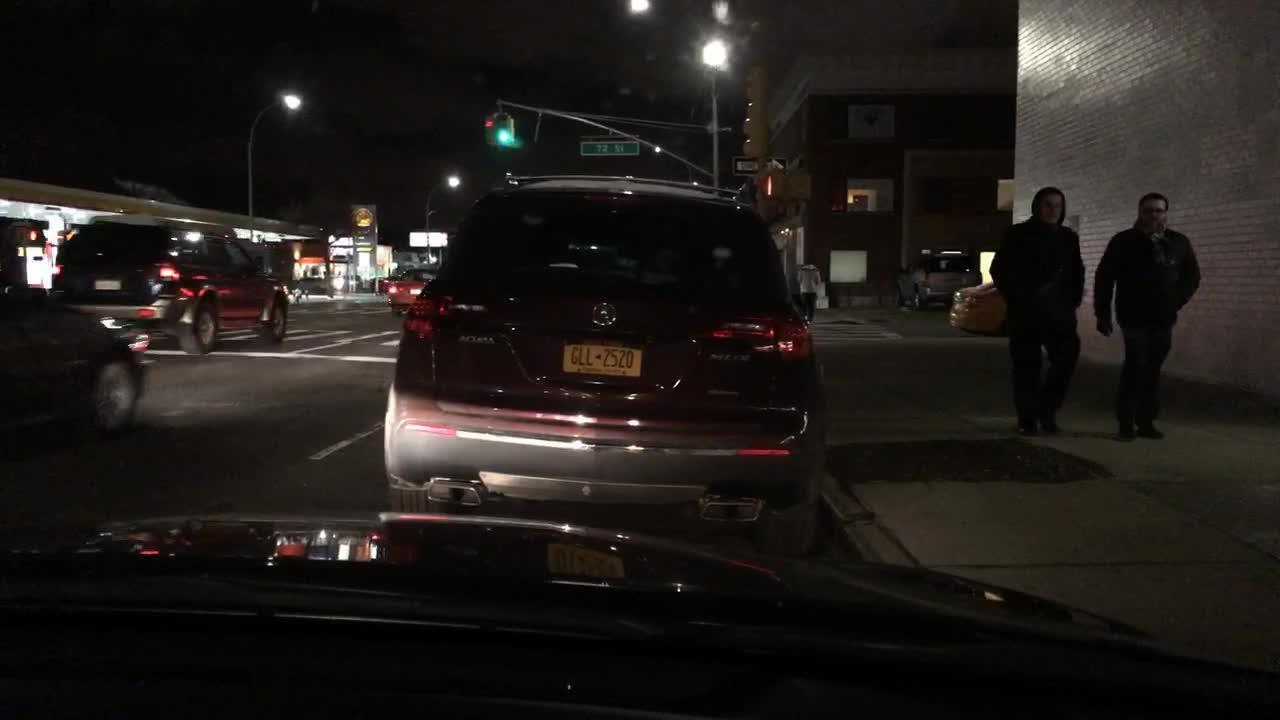acura: (586, 297, 622, 332)
